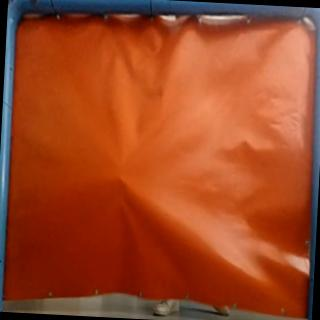Hit-hRxx: (114, 170, 130, 186)
